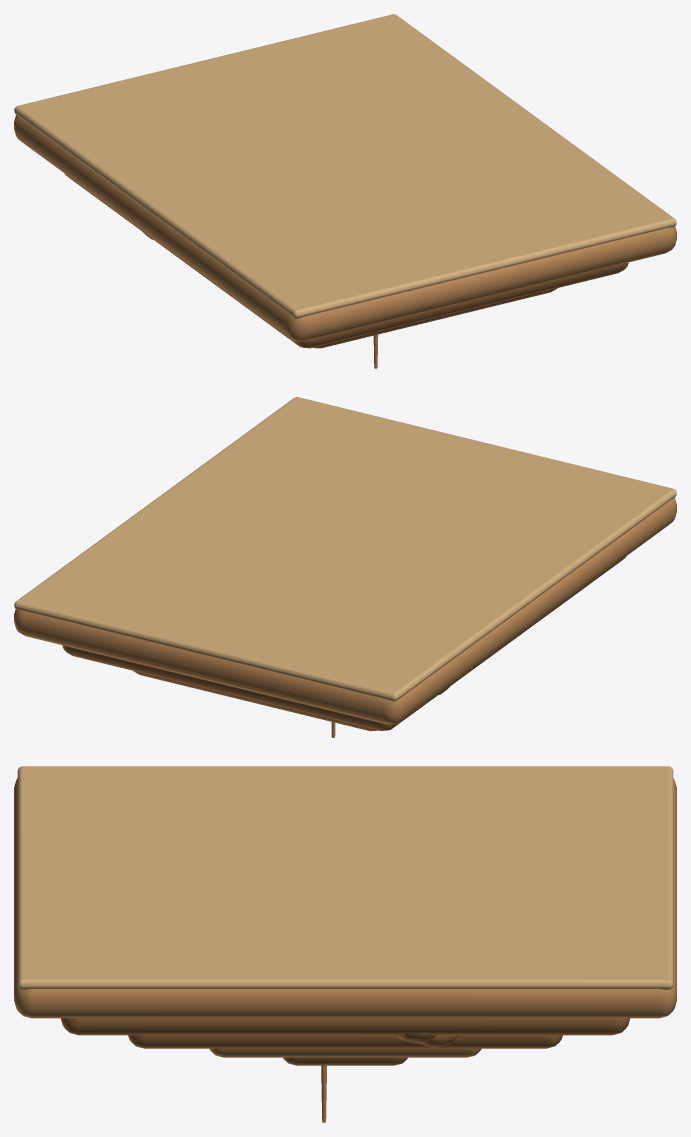
Rendered from island_v2.glb.
3 views of the same model, one above another, from view 1: azimuth 30°, elevation 25°; view 2: azimuth 150°, elevation 25°; view 3: azimuth 270°, elevation 25° (orthographic). The views are drawn at different scales.
Parts seen in each view (by area): view 1: Cube; view 2: Cube; view 3: Cube.
Part boxes in pixels (box(x1,y1,x2,y2)): Cube: box(14, 14, 676, 368); Cube: box(14, 397, 676, 737); Cube: box(14, 766, 676, 1122).
Size of the model in its own units: 7.32 by 3.68 by 9.32.
